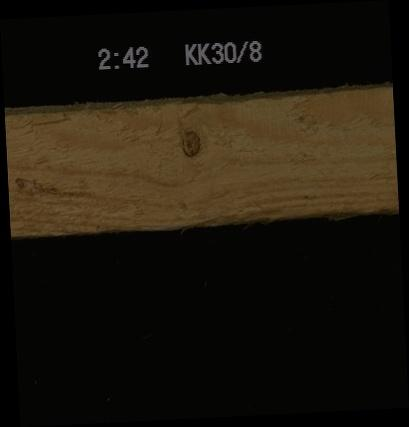dry_knot: (179, 127, 201, 159)
split: (20, 108, 75, 134)
